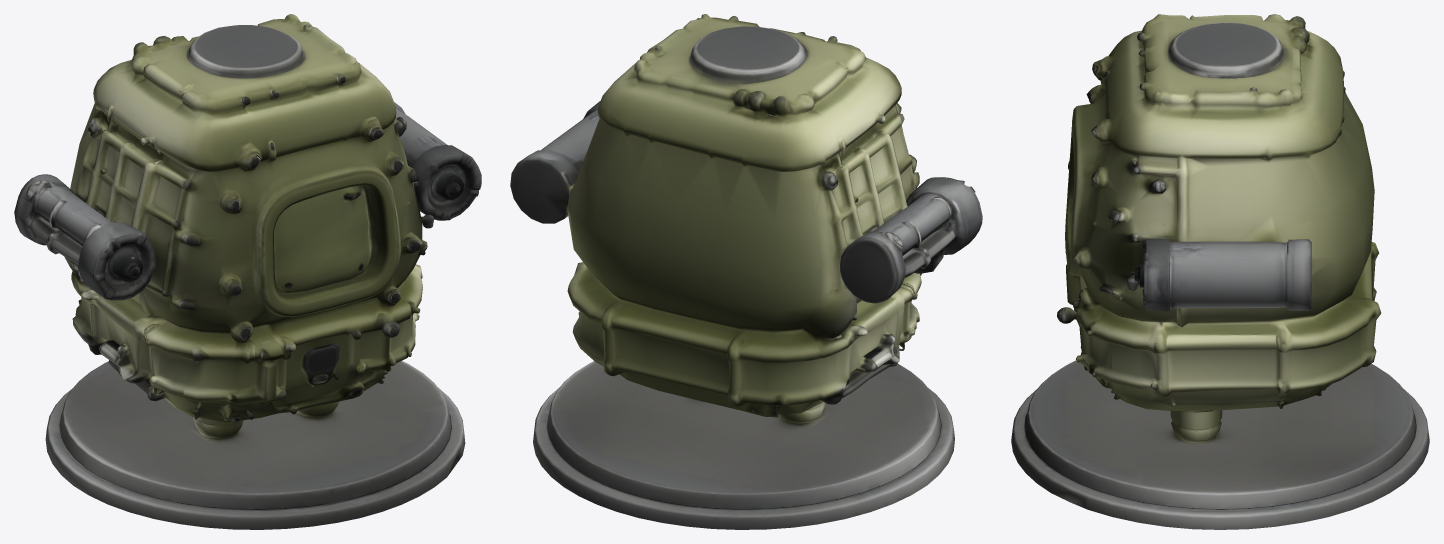
The model's file is viet-rook.glb.
3 renders of one model, left to right at view 1: azimuth 30°, elevation 25°; view 2: azimuth 150°, elevation 25°; view 3: azimuth 270°, elevation 25°, orthographic.
Parts seen in each view (by area): view 1: tripo_8104db9d_68e9_433e_9529_4543c046688d; view 2: tripo_8104db9d_68e9_433e_9529_4543c046688d; view 3: tripo_8104db9d_68e9_433e_9529_4543c046688d.
Boxes of the visible parts, x1=… form: tripo_8104db9d_68e9_433e_9529_4543c046688d: x1=14, y1=14, x2=481, y2=529; tripo_8104db9d_68e9_433e_9529_4543c046688d: x1=510, y1=14, x2=982, y2=529; tripo_8104db9d_68e9_433e_9529_4543c046688d: x1=1011, y1=14, x2=1429, y2=529.
Bounding box in the file's own units: 0.9995 × 0.9731 × 0.9341.
1 material, 1 textured.
